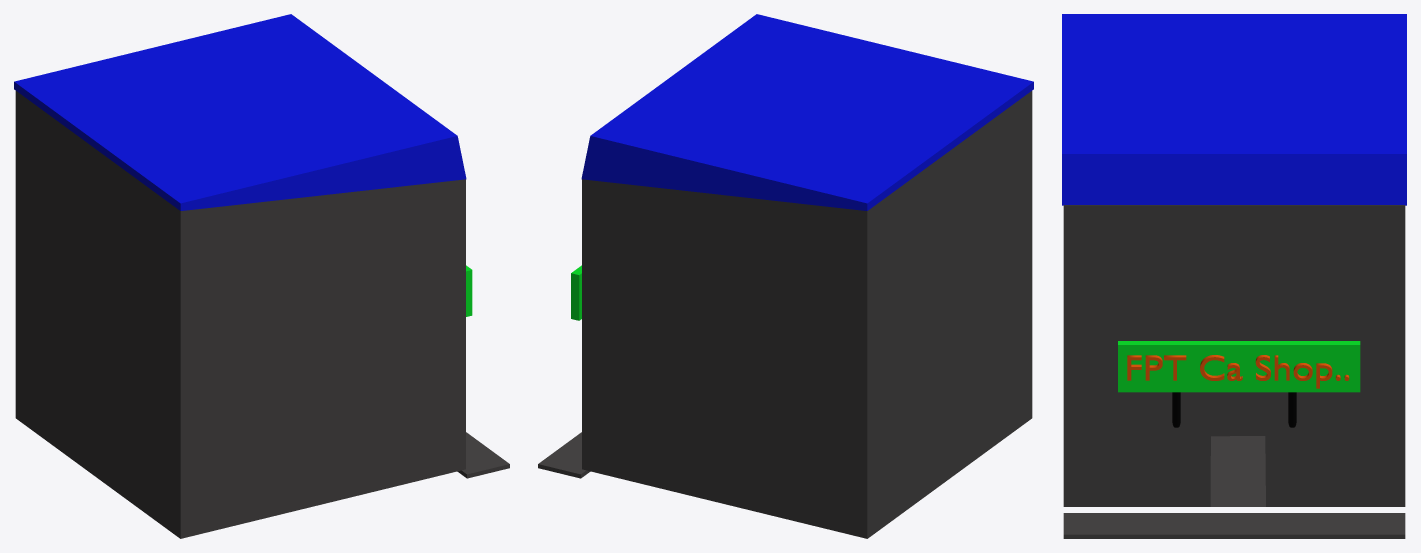
File: AquaStoreSuperVipro.fbx
The picture shows the model from 3 angles, left to right: view 1: azimuth 30°, elevation 25°; view 2: azimuth 150°, elevation 25°; view 3: azimuth 270°, elevation 25°; orthographic projection. The views are drawn at different scales.
Visible parts, largest first — view 1: Floor2, Floor1, MaiNha; view 2: Floor2, Floor1, MaiNha; view 3: MaiNha, Floor2, Floor1, BienHieu, Brand.
Part boxes in pixels (x1,y1,x2,y2): Floor2: (15, 91, 509, 478); Floor1: (15, 269, 465, 538); MaiNha: (14, 14, 466, 210); Floor2: (538, 91, 1032, 478); Floor1: (582, 269, 1032, 538); MaiNha: (581, 14, 1033, 210); MaiNha: (1062, 14, 1406, 205); Floor2: (1063, 205, 1405, 538); Floor1: (1063, 352, 1405, 506); BienHieu: (1118, 341, 1360, 392); Brand: (1127, 355, 1349, 388).
Size of the model in its own units: 462 by 463 by 404.
